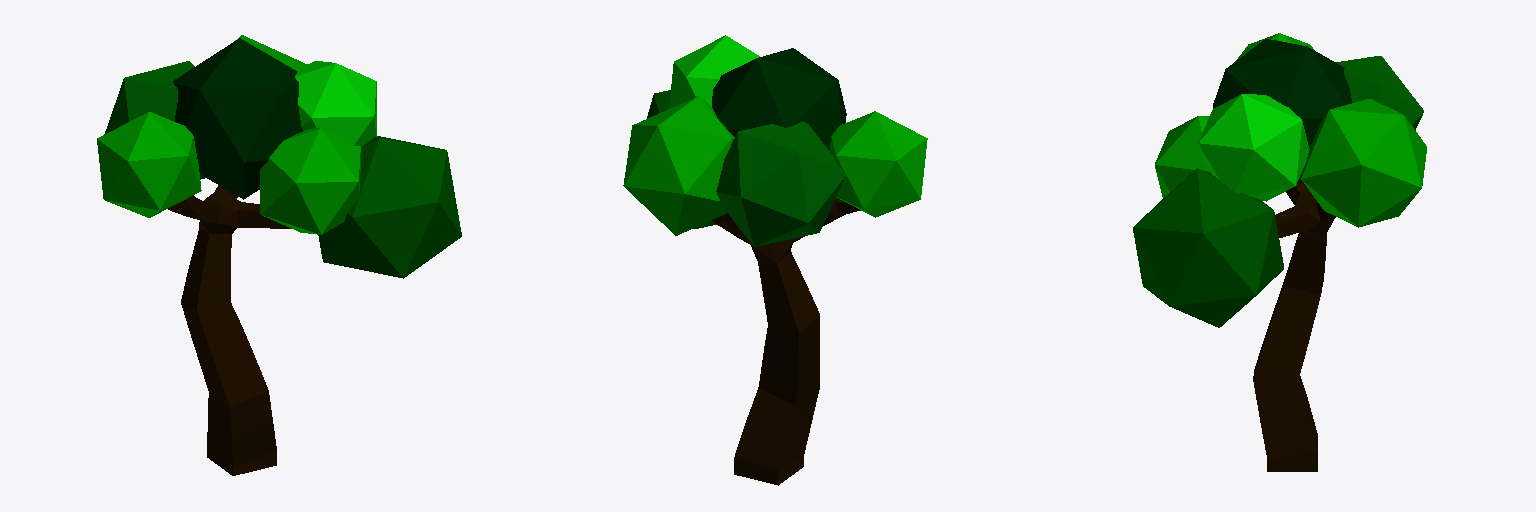
The model's file is loliPopTree.obj.
3 renders of one model, left to right at view 1: azimuth 30°, elevation 25°; view 2: azimuth 150°, elevation 25°; view 3: azimuth 270°, elevation 25°, orthographic.
Bounding box in the file's own units: 3.45 × 4.49 × 2.88.